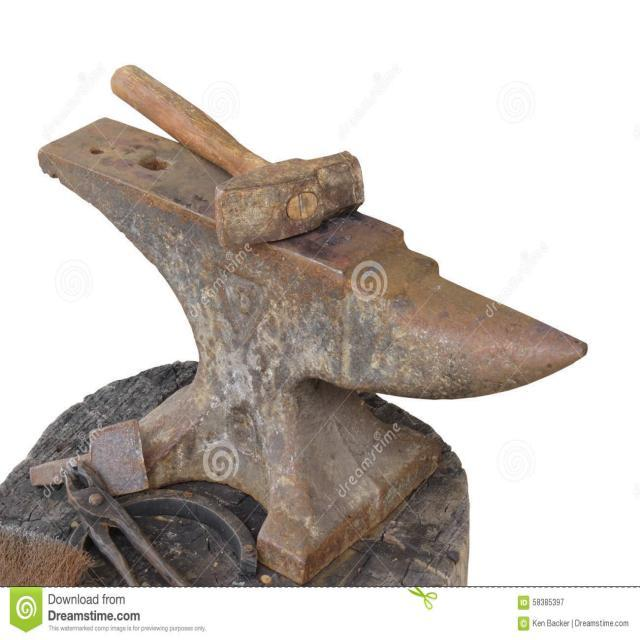hammer: (105, 56, 372, 254)
